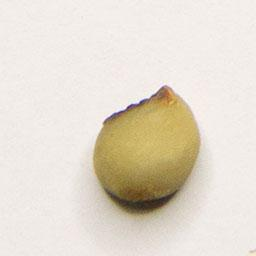defect: (91, 78, 205, 210)
